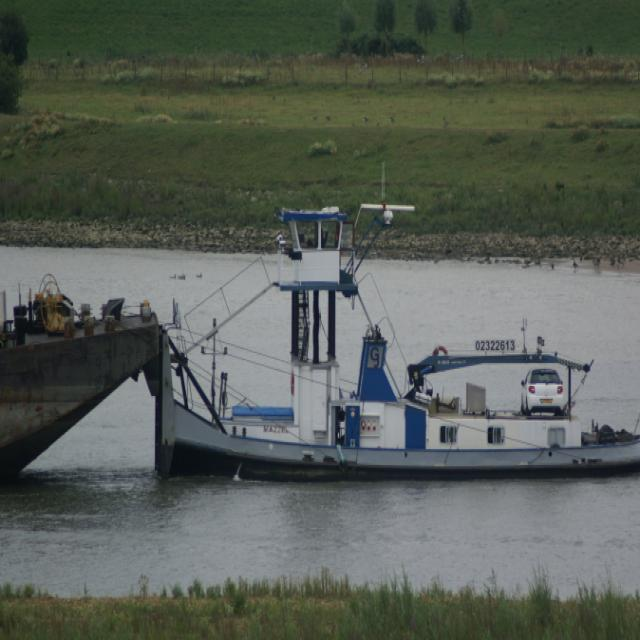tugboat: (148, 199, 640, 492)
